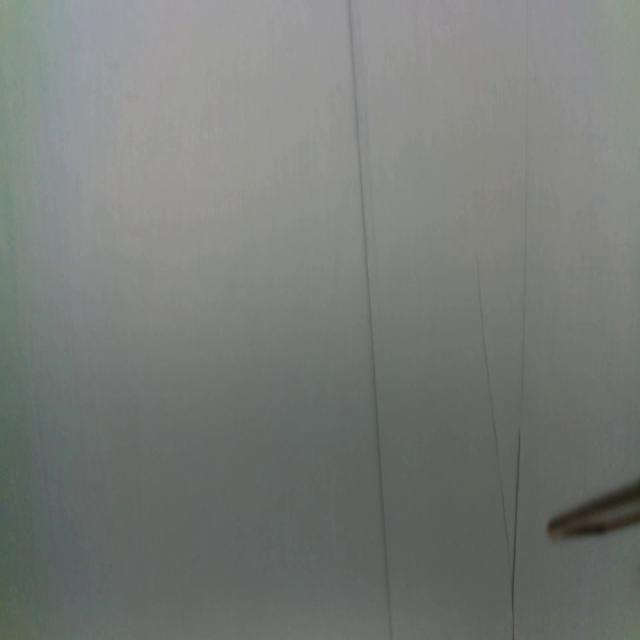crease: (348, 0, 393, 640), (509, 62, 531, 639), (474, 247, 507, 545)
